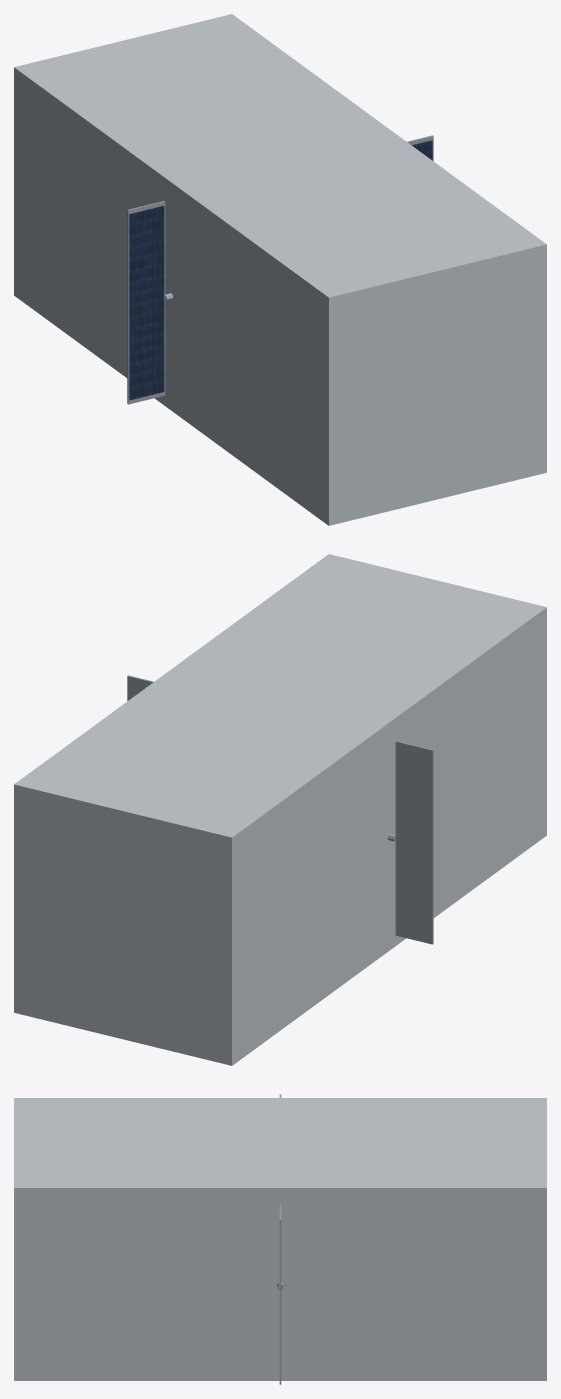
Rendered from ref-ors-5-42921.glb.
3 views of the same model, one above another, from view 1: azimuth 30°, elevation 25°; view 2: azimuth 150°, elevation 25°; view 3: azimuth 270°, elevation 25° (orthographic). The views are drawn at different scales.
Parts seen in each view (by area): view 1: Spacecraft body, Photovoltaic laminates, Array frame; view 2: Spacecraft body, Array frame; view 3: Spacecraft body, Array frame.
Boxes of the visible parts, x1=… form: Spacecraft body: x1=14, y1=14, x2=546, y2=525; Photovoltaic laminates: x1=129, y1=206, x2=164, y2=400; Array frame: x1=127, y1=201, x2=165, y2=404; Spacecraft body: x1=14, y1=554, x2=546, y2=1065; Array frame: x1=395, y1=741, x2=433, y2=944; Spacecraft body: x1=14, y1=1098, x2=546, y2=1380; Array frame: x1=279, y1=1205, x2=281, y2=1384.
Bounding box in the file's own units: 0.84 × 0.6 × 1.5.
3 materials, 1 textured.
